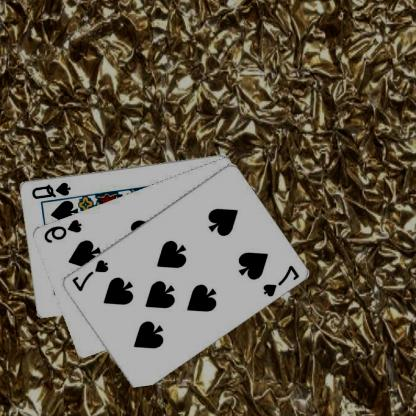6S: (43, 217, 84, 244)
7S: (262, 262, 302, 298), (70, 257, 111, 292)
QS: (31, 179, 73, 200)
